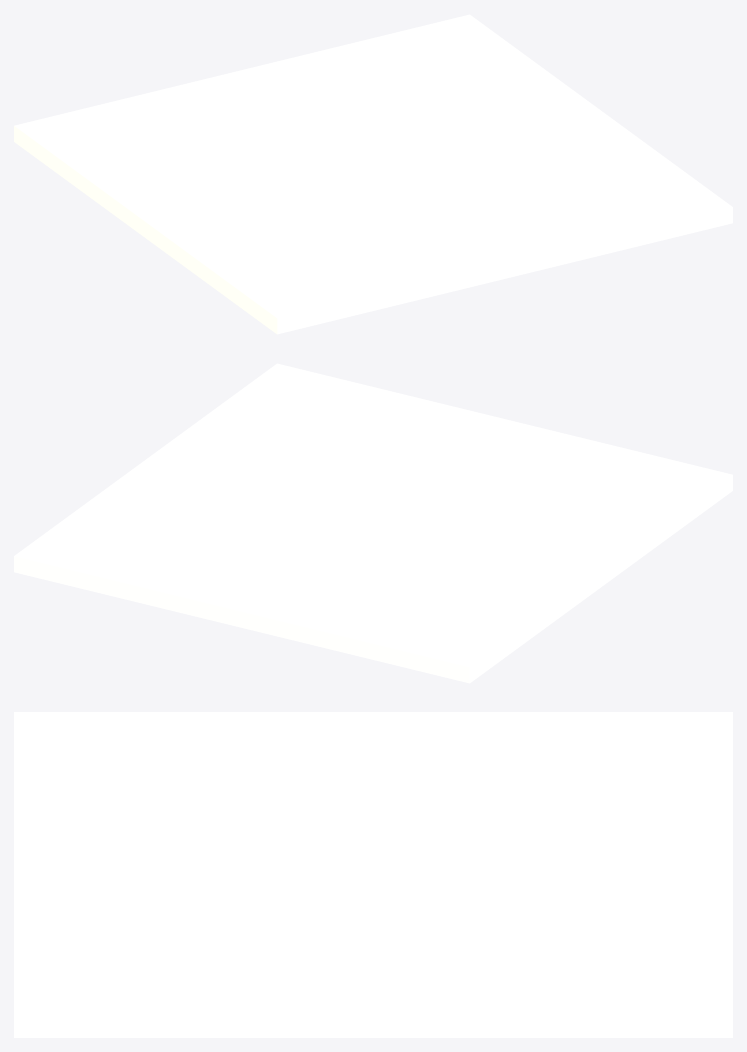
The model's file is Golden_01.gltf.
The picture shows the model from 3 angles, top to bottom: view 1: azimuth 30°, elevation 25°; view 2: azimuth 150°, elevation 25°; view 3: azimuth 270°, elevation 25°; orthographic projection. The views are drawn at different scales.
Visible parts, largest first — view 1: PF_Golden; view 2: PF_Golden; view 3: PF_Golden.
Part boxes in pixels (bbox=[...]): PF_Golden: bbox=[14, 14, 732, 334]; PF_Golden: bbox=[14, 363, 732, 683]; PF_Golden: bbox=[14, 712, 732, 1037].
Size of the model in its own units: 131 by 4.46 by 131.
Materials: 3 (1 with a texture image).
